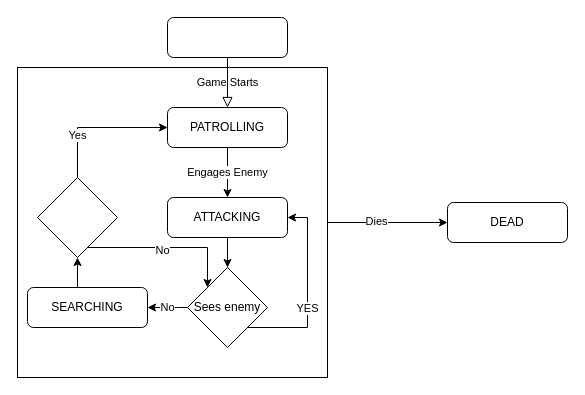
Image size: 585x395. Some labels were removed from this diagram. The centre of each missing label's shape, as x and y in pixels:
IDLE: pixel 227 37
Searched for longer than 15s: pixel 77 217
